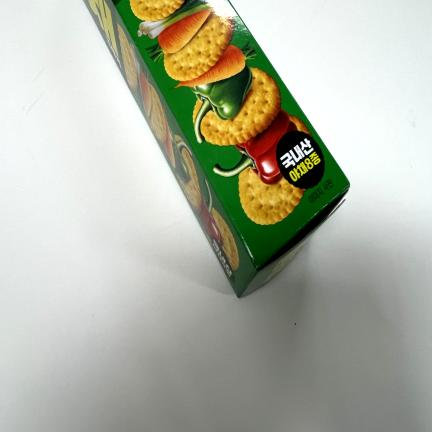cracker_vege: (84, 0, 350, 302)
